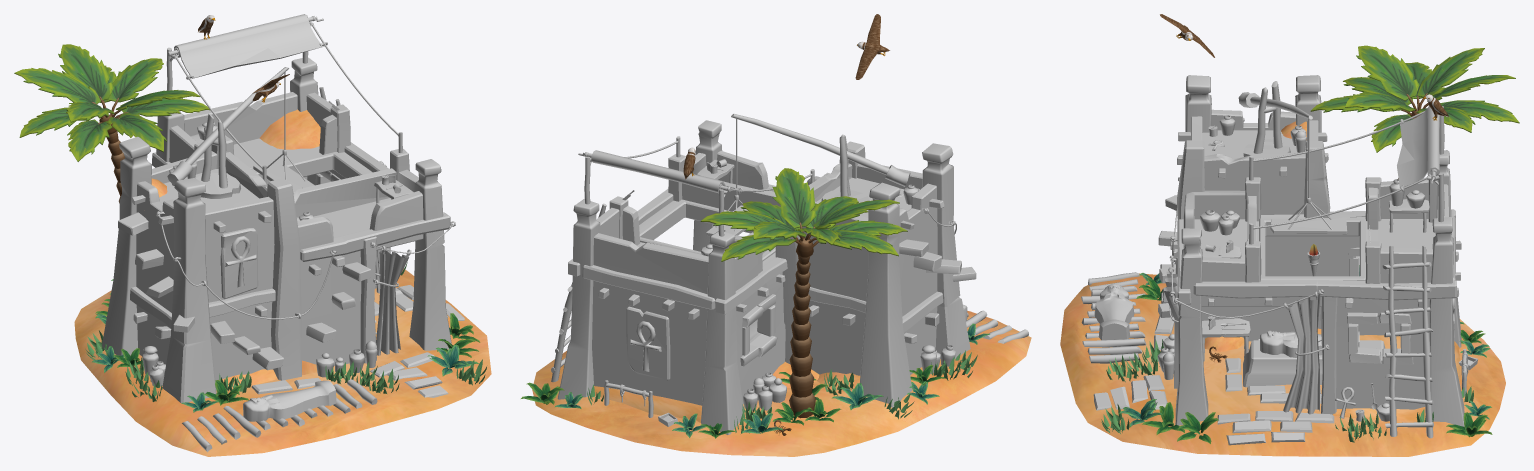
Rendered from BenVhanelst feedback1.fbx.
The picture shows the model from 3 angles, left to right: view 1: azimuth 30°, elevation 25°; view 2: azimuth 150°, elevation 25°; view 3: azimuth 270°, elevation 25°; orthographic projection. The views are drawn at different scales.
Visible parts, largest first — view 1: polySurface4038; view 2: polySurface4038; view 3: polySurface4038.
Part boxes in pixels (left/top/right/bottom): polySurface4038: left=14, top=14, right=491, bottom=456; polySurface4038: left=521, top=14, right=1031, bottom=456; polySurface4038: left=1060, top=14, right=1519, bottom=456.
Size of the model in its own units: 275 by 238 by 293.
